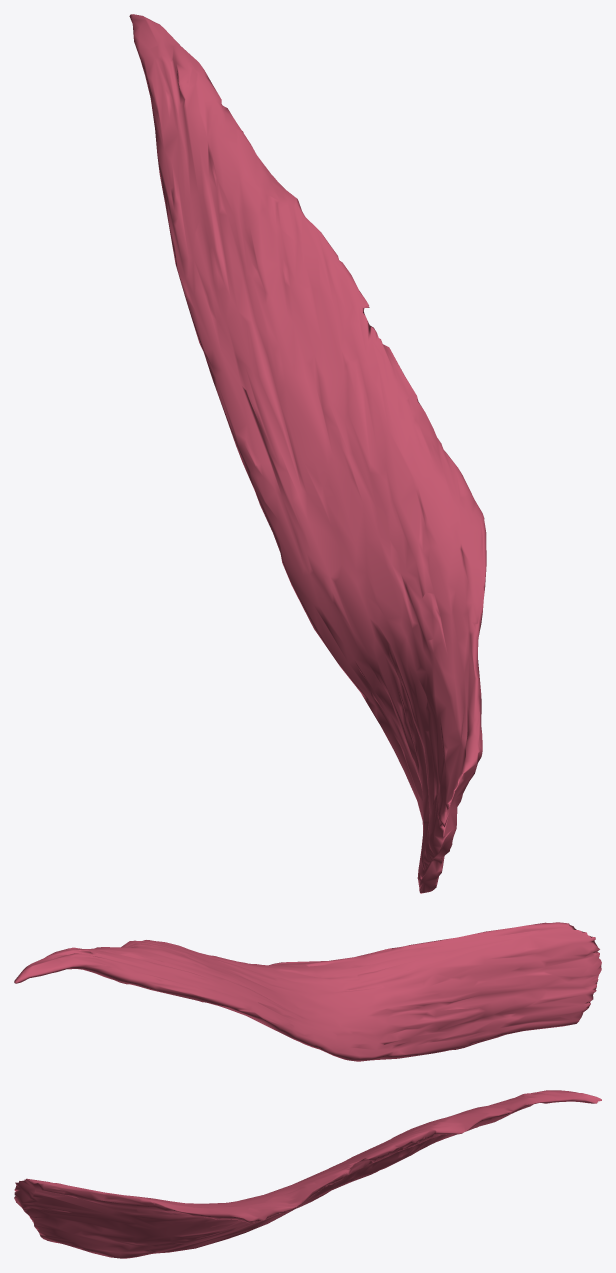
3 views of the same model, one above another, from view 1: azimuth 30°, elevation 25°; view 2: azimuth 150°, elevation 25°; view 3: azimuth 270°, elevation 25° (orthographic). The views are drawn at different scales.
Parts seen in each view (by area): view 1: 右侧头夹肌; view 2: 右侧头夹肌; view 3: 右侧头夹肌.
Boxes of the visible parts, x1=… form: 右侧头夹肌: x1=129, y1=14, x2=486, y2=893; 右侧头夹肌: x1=14, y1=922, x2=601, y2=1061; 右侧头夹肌: x1=14, y1=1090, x2=601, y2=1258.
Size of the model in its own units: 0.0904 by 0.1242 by 0.3177.
